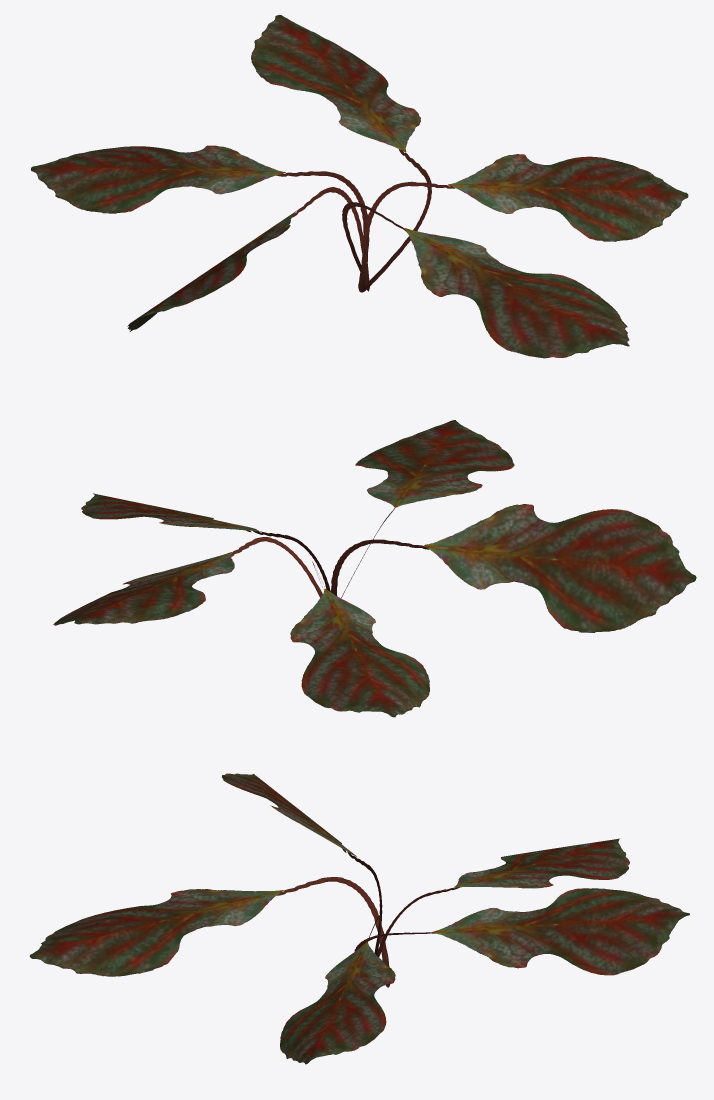
Rendered from Row Root D3.fbx.
3 views of the same model, one above another, from view 1: azimuth 30°, elevation 25°; view 2: azimuth 150°, elevation 25°; view 3: azimuth 270°, elevation 25° (orthographic). The views are drawn at different scales.
Parts seen in each view (by area): view 1: Row Root D3; view 2: Row Root D3; view 3: Row Root D3.
Boxes of the visible parts, bbox=[...] form: Row Root D3: bbox=[31, 15, 688, 358]; Row Root D3: bbox=[53, 420, 696, 717]; Row Root D3: bbox=[29, 773, 689, 1064].
Size of the model in its own units: 232 by 51.04 by 250.
